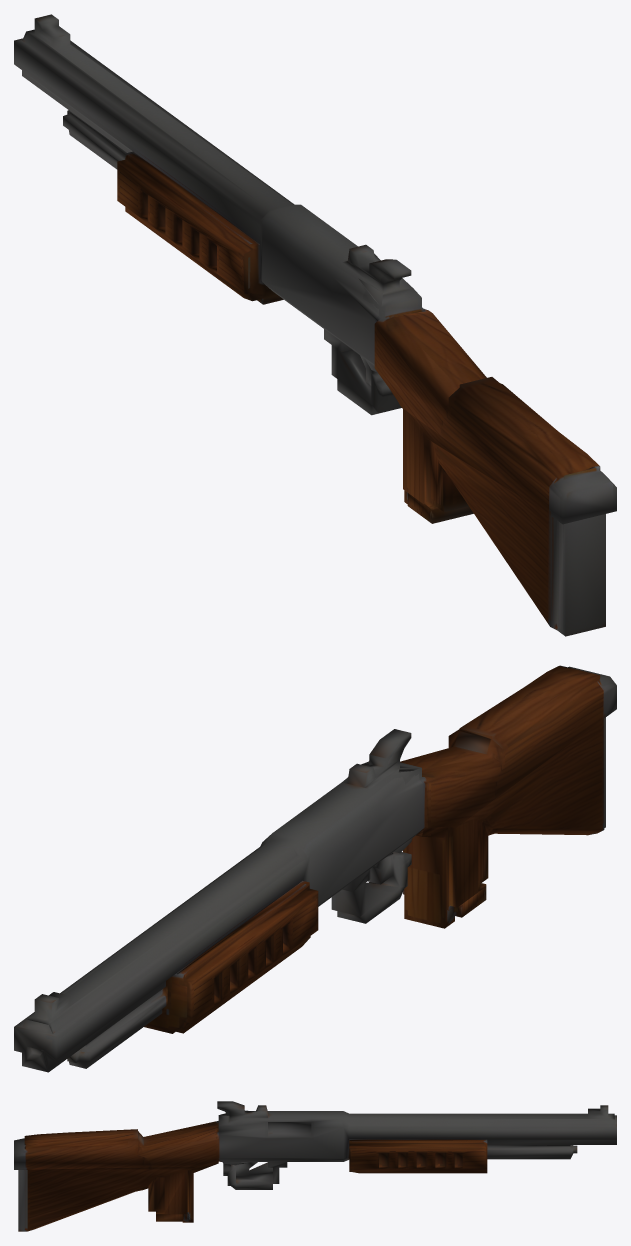
The model's file is Shotgun Low Poly Voxel Model.glb.
The picture shows the model from 3 angles, top to bottom: view 1: azimuth 30°, elevation 25°; view 2: azimuth 150°, elevation 25°; view 3: azimuth 270°, elevation 25°; orthographic projection. The views are drawn at different scales.
Visible parts, largest first — view 1: material; view 2: material; view 3: material.
Part boxes in pixels (x1,y1,x2,y2): material: [14, 14, 616, 636]; material: [14, 665, 616, 1072]; material: [14, 1101, 616, 1231].
Bounding box in the file's own units: 0.1465 × 0.4257 × 1.9.
1 material, 1 textured.
